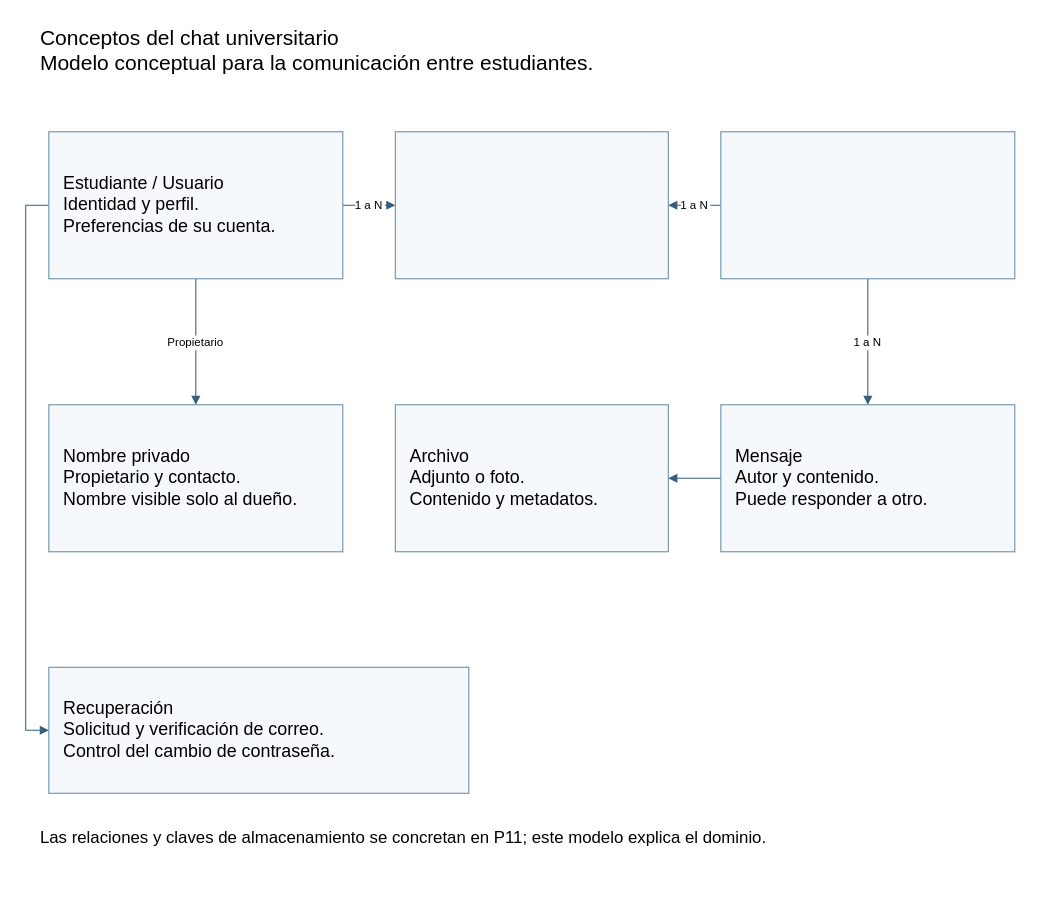
Some shapes in this 1044 by 901 pixel diagram are drawn without their labels. The shapes that lost their labels are listed below. From the top down, each one's centre as x and y in pixels, then its label:
At [531,205]: "Pertenencia Vincula usuario y chat. Rol y última lectura.".
At [867,205]: "Conversación Privada o de grupo. Espacio de intercambio.".
